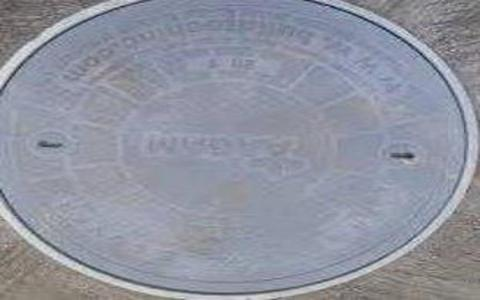proper manhole: (7, 1, 471, 290)
